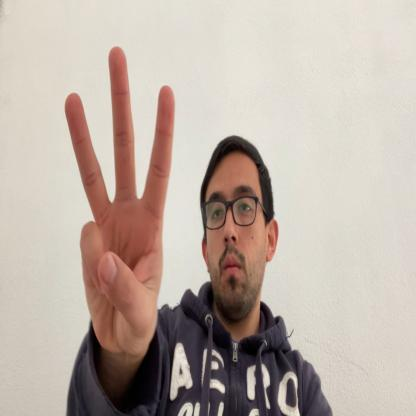W: (65, 43, 176, 370)
